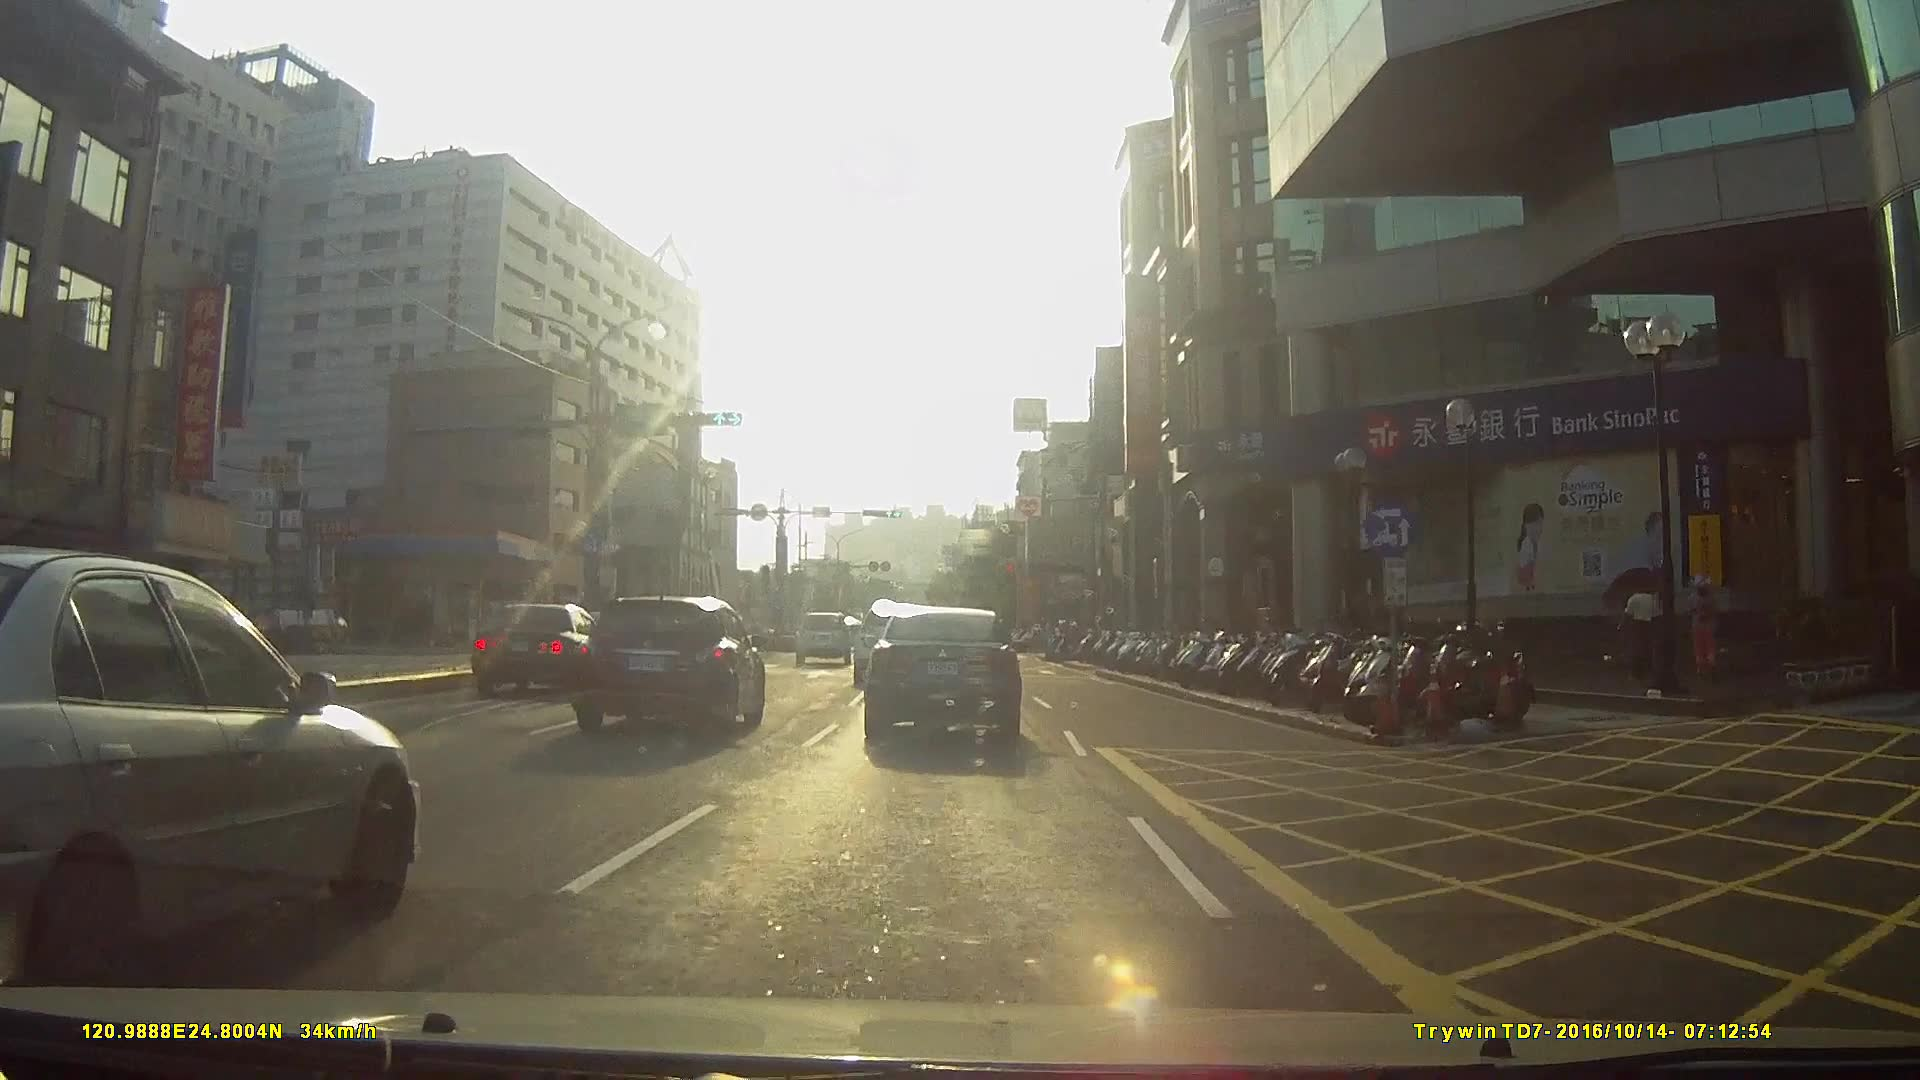pedestrian: (1686, 565, 1734, 705), (1620, 569, 1667, 686)
vehicle: (0, 541, 407, 1012), (562, 589, 759, 733), (861, 604, 1020, 747), (474, 601, 627, 697), (796, 610, 854, 669)
